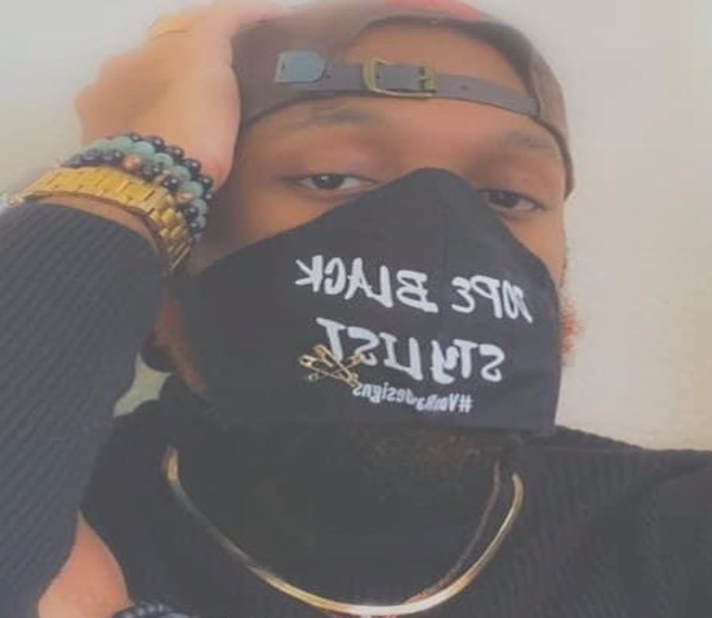mask_weared_incorrect: (126, 0, 597, 504)
